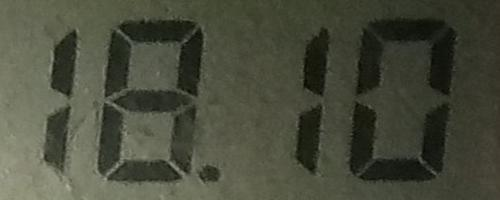.: (198, 163, 223, 188)
